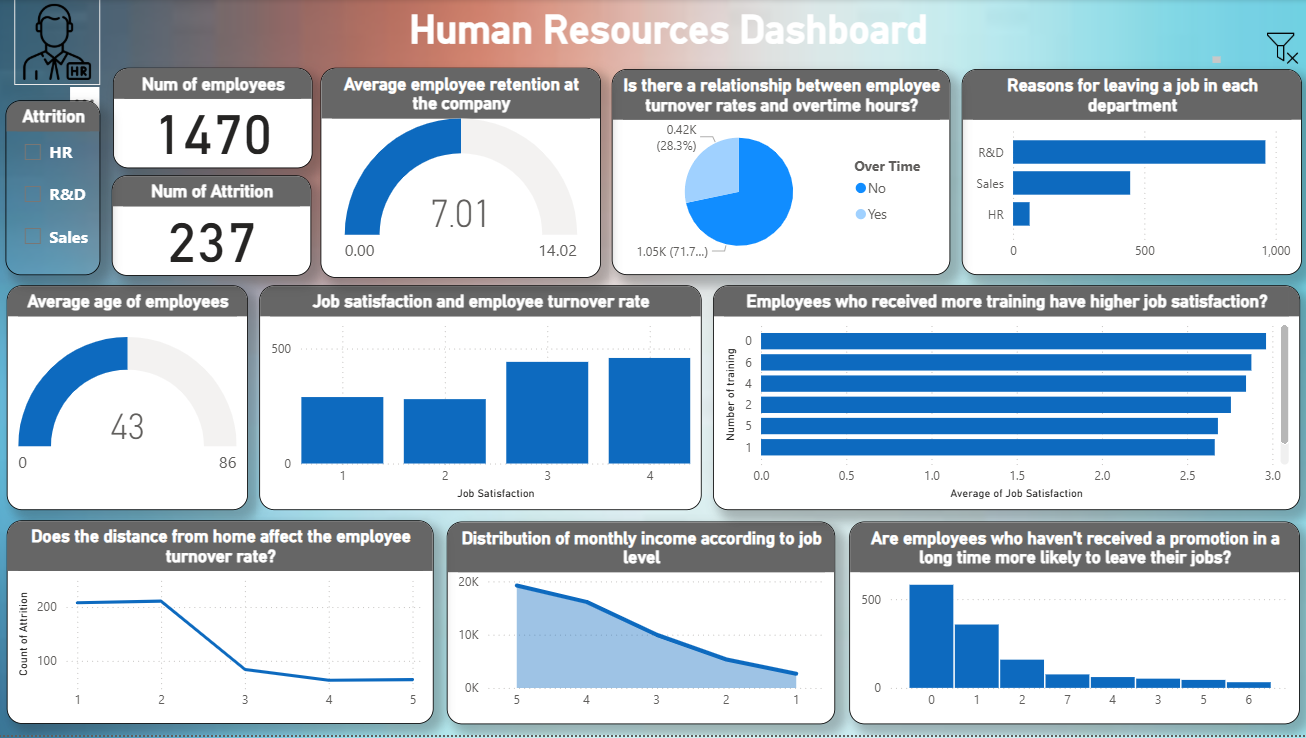

The page's visual inventory and layout, read from the dashboard file:
{"tool":"powerbi","page":{"name":"HR","canvas":[1280,720],"ordinal":1},"visuals":[{"type":"gauge","title":"Average age of employees","fields":{"Y":["Count(HR.Age)"]},"box":[8.6,280,235.7,220],"z":0},{"type":"barChart","title":"Reasons for leaving a job in each department","fields":{"Y":["CountNonNull(HR.Attrition)"],"Category":["HR.Department"]},"box":[942.9,68.6,332.9,201.4],"z":1000},{"type":"pieChart","title":"Is there a relationship between employee turnover rates and overtime hours?","fields":{"Category":["HR.Over Time"],"Y":["CountNonNull(HR.Attrition)"]},"box":[600,68.6,331.4,201.4],"z":2000},{"type":"columnChart","title":"Job satisfaction and employee turnover rate","fields":{"Category":["HR.Job Satisfaction"],"Y":["CountNonNull(HR.Attrition)"]},"box":[255.7,280,432.9,220],"z":3000},{"type":"areaChart","title":"Distribution of monthly income according to job level","fields":{"Category":["HR.Job Level"],"Y":["Median(HR.Monthly Income)"]},"box":[438.6,511.4,380,198.6],"z":4000},{"type":"barChart","title":"Employees who received more training have higher job satisfaction?","fields":{"Category":["HR.Training Times Last Year"],"Y":["Avg(HR.Job Satisfaction)"]},"box":[700,280,574,220],"z":5000},{"type":"clusteredColumnChart","title":"Are employees who haven''t received a promotion in a long time more likely to leave their jobs?","fields":{"Category":["HR.Years Since Last Promotion"],"Y":["CountNonNull(HR.Attrition)"]},"box":[832.9,511.4,441,198.6],"z":6000},{"type":"lineChart","title":"Does the distance from home affect the employee turnover rate?","fields":{"Y":["CountNonNull(HR.Attrition)"],"Category":["HR.Distance From Home"]},"box":[8.6,510.4,417.7,199.6],"z":7000},{"type":"card","title":"Num of employees ","fields":{"Values":["CountNonNull(HR.Employee Count)"]},"box":[112.9,67.1,195,98],"z":8000},{"type":"card","title":"Num of Attrition","fields":{"Values":["Sum(HR.Num attrition)"]},"box":[111.4,172.9,195,98],"z":9000},{"type":"gauge","title":"Average employee retention at the company","fields":{"Y":["Avg(HR.Years At Company)"]},"box":[315.7,67.1,274.3,205.7],"z":10000},{"type":"textbox","title":"Human Resources Dashboard","box":[111.3,7.3,1089.5,59.9],"z":11000},{"type":"image","box":[15.7,0,84.3,84.3],"z":12000},{"type":"image","box":[1232.6,28.1,47.7,40.4],"z":13000},{"type":"slicer","title":"Attrition","fields":{"Values":["HR.Department"]},"box":[7.3,99,92.9,171.2],"z":14000}]}

Visuals, with their boxes in screenshot pixels (x1, y1, x2, y2), scaled from the page's 1280x720 canvas onto the 1306x738 screenshot:
"Average age of employees" gauge: <box>9,287,249,512</box>
"Reasons for leaving a job in each department" barChart: <box>962,70,1302,277</box>
"Is there a relationship between employee turnover rates and overtime hours?" pieChart: <box>612,70,950,277</box>
"Job satisfaction and employee turnover rate" columnChart: <box>261,287,703,512</box>
"Distribution of monthly income according to job level" areaChart: <box>448,524,835,728</box>
"Employees who received more training have higher job satisfaction?" barChart: <box>714,287,1300,512</box>
"Are employees who haven''t received a promotion in a long time more likely to leave their jobs?" clusteredColumnChart: <box>850,524,1300,728</box>
"Does the distance from home affect the employee turnover rate?" lineChart: <box>9,523,435,728</box>
"Num of employees " card: <box>115,69,314,169</box>
"Num of Attrition" card: <box>114,177,313,278</box>
"Average employee retention at the company" gauge: <box>322,69,602,280</box>
"Human Resources Dashboard" textbox: <box>114,7,1225,69</box>
image: <box>16,0,102,86</box>
image: <box>1258,29,1305,70</box>
"Attrition" slicer: <box>7,101,102,277</box>
